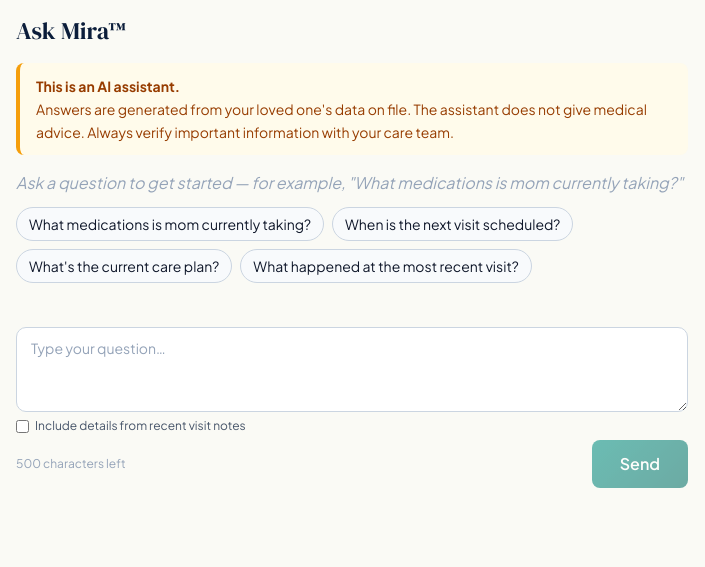
FamilyChat (streaming) › streams deltas in order and assembles the final answer + sources
Type "Which medications am I on?" into the text box with test id "family-chat-input".
click(352, 370); type("Which medications am I on?")  # box [16,327,688,412]
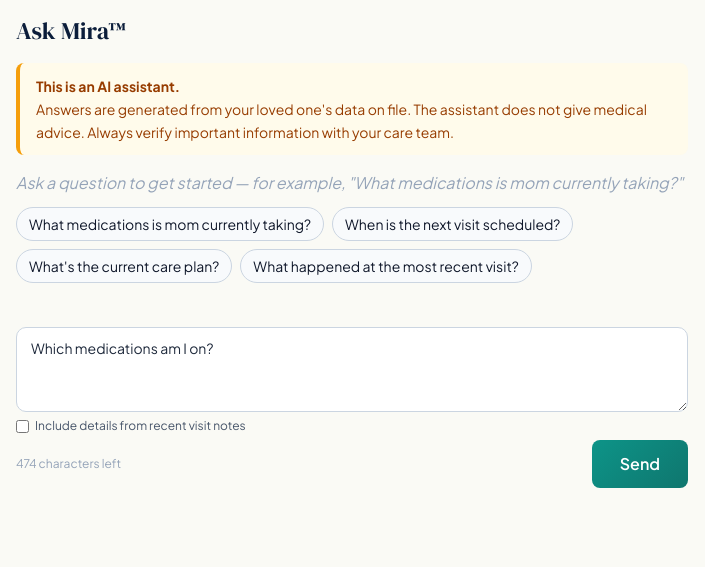
Click the button with test id "family-chat-submit".
click(640, 464)  # box [592,440,688,488]
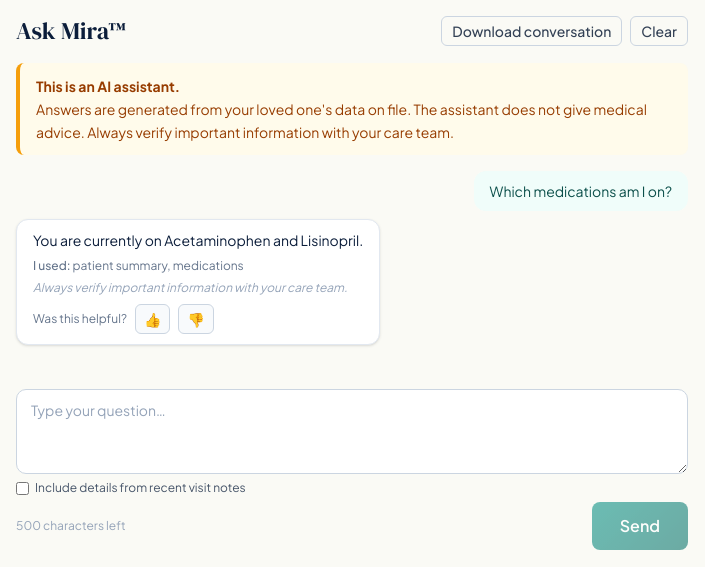
Expected: the text "You are currently on Acetaminophen and Lisinopril." is shown, [33,230,363,250]
Expected: the text "I used:" is shown, [33,258,70,273]
